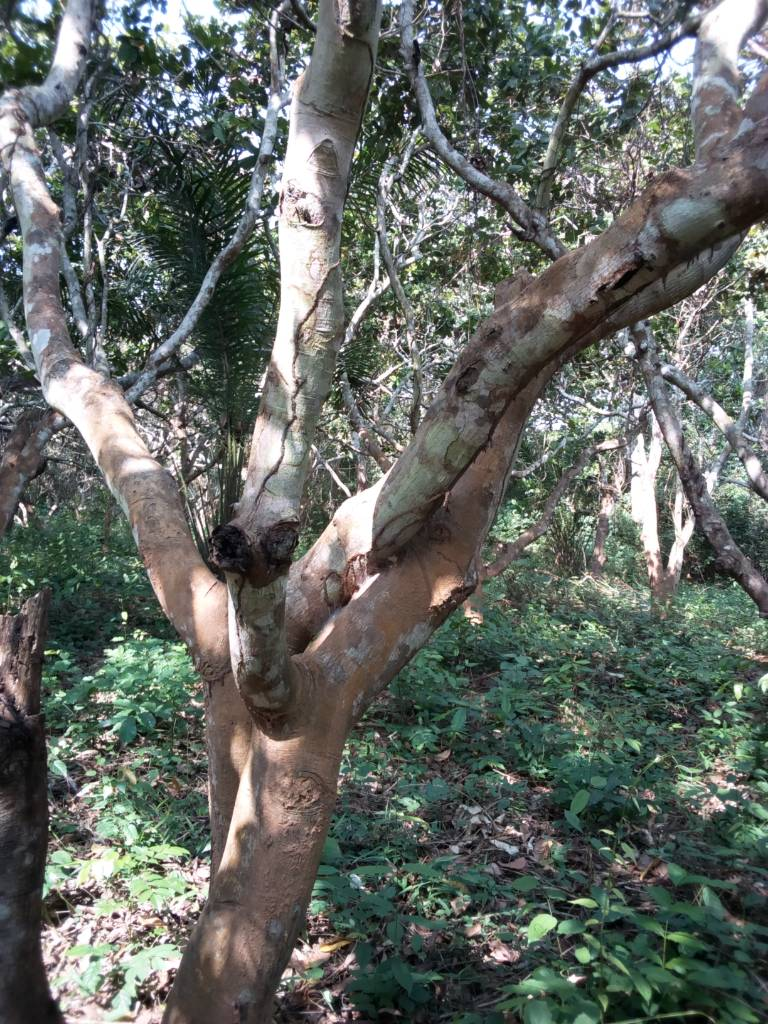Termites: (216, 738, 300, 1014), (154, 538, 235, 685)
